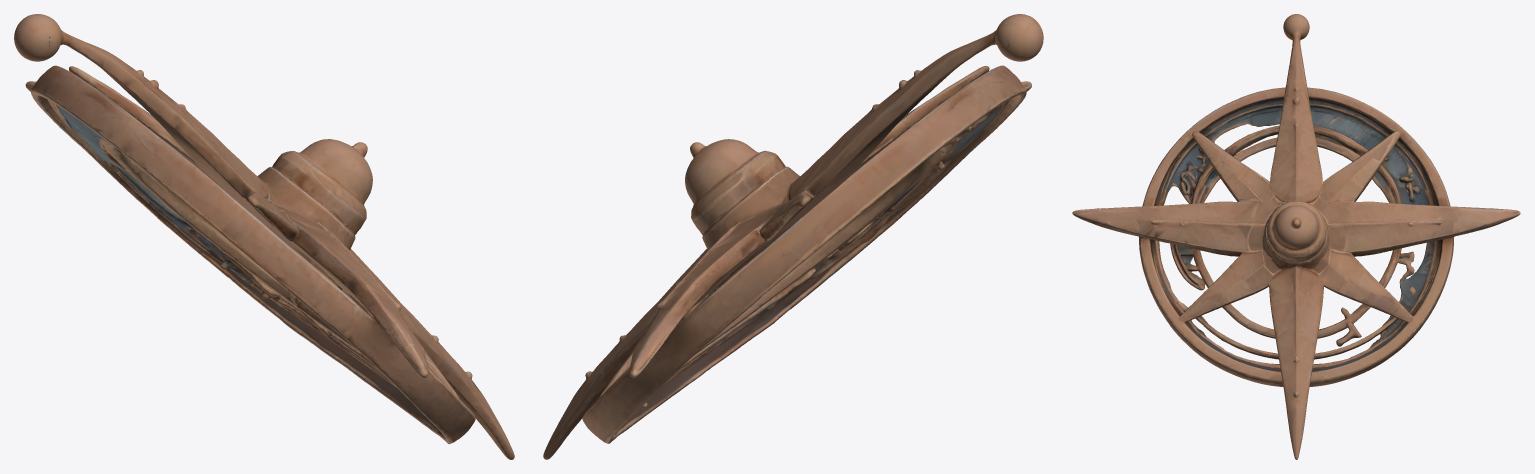
File: prop-compass-stone.glb
3 renders of one model, left to right at view 1: azimuth 30°, elevation 25°; view 2: azimuth 150°, elevation 25°; view 3: azimuth 270°, elevation 25°, orthographic. The views are drawn at different scales.
Parts seen in each view (by area): view 1: tripo_node_ba669c78-38df-45ce-b6d6-679d8978f932; view 2: tripo_node_ba669c78-38df-45ce-b6d6-679d8978f932; view 3: tripo_node_ba669c78-38df-45ce-b6d6-679d8978f932.
Boxes of the visible parts, x1=… form: tripo_node_ba669c78-38df-45ce-b6d6-679d8978f932: x1=14, y1=14, x2=514, y2=459; tripo_node_ba669c78-38df-45ce-b6d6-679d8978f932: x1=543, y1=14, x2=1043, y2=459; tripo_node_ba669c78-38df-45ce-b6d6-679d8978f932: x1=1072, y1=14, x2=1520, y2=459.
Size of the model in its own units: 0.1395 by 0.15 by 0.1937.
1 material, 1 textured.
